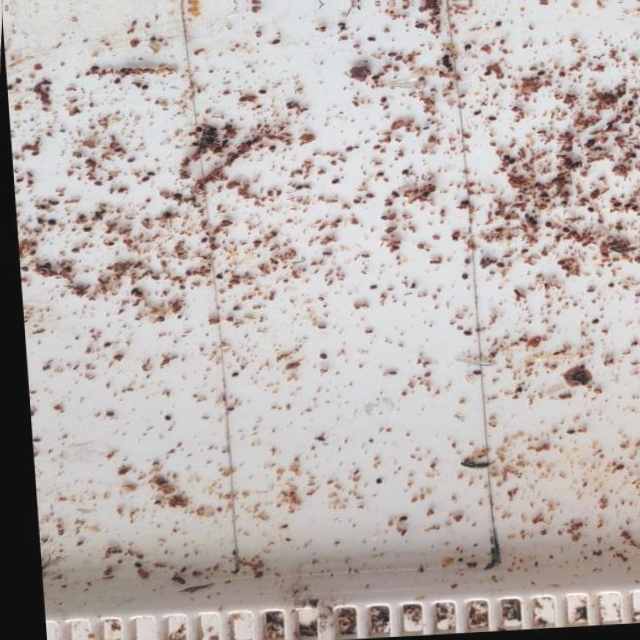varroa: (23, 248, 35, 259), (160, 211, 172, 222), (597, 256, 610, 266), (128, 292, 142, 301), (31, 218, 45, 227), (137, 177, 151, 186), (360, 195, 374, 204), (80, 226, 92, 236), (536, 197, 551, 205), (457, 333, 470, 342), (365, 287, 378, 296), (342, 149, 355, 158), (266, 146, 280, 154), (373, 174, 384, 184), (447, 239, 458, 249), (169, 578, 181, 587), (624, 345, 636, 354), (349, 202, 361, 211), (97, 343, 112, 350), (44, 219, 57, 227), (368, 148, 381, 156), (315, 355, 326, 364), (457, 277, 468, 286), (114, 188, 125, 197), (170, 193, 181, 202), (381, 204, 392, 213), (457, 203, 468, 212), (517, 252, 528, 261), (462, 48, 473, 57), (220, 407, 232, 415), (68, 248, 80, 256), (221, 125, 233, 133), (143, 173, 156, 180), (12, 177, 25, 184), (369, 78, 382, 85), (460, 261, 469, 271), (494, 25, 504, 34), (226, 373, 237, 381), (587, 324, 598, 332), (211, 275, 222, 283), (100, 412, 112, 419), (551, 264, 563, 271), (493, 267, 505, 274), (62, 266, 71, 275), (392, 519, 402, 527), (160, 416, 170, 424), (128, 289, 138, 297), (293, 187, 303, 195), (491, 231, 501, 239), (42, 81, 55, 87), (557, 270, 568, 277), (329, 182, 340, 189), (611, 231, 622, 238), (92, 182, 103, 189), (416, 81, 427, 88), (535, 75, 546, 82), (609, 208, 621, 214), (197, 238, 206, 246), (38, 204, 47, 212), (48, 201, 60, 207), (28, 151, 40, 157), (557, 76, 565, 85), (127, 563, 137, 570), (582, 212, 592, 219), (139, 86, 149, 93), (190, 142, 200, 149), (387, 55, 397, 62), (113, 79, 123, 86), (562, 434, 572, 441), (592, 151, 603, 157), (257, 92, 268, 98), (89, 67, 100, 73), (468, 375, 479, 381), (627, 106, 635, 114), (370, 482, 379, 489), (28, 437, 37, 444), (558, 205, 567, 212), (627, 158, 636, 165), (506, 163, 515, 170), (419, 375, 428, 382), (583, 144, 595, 149), (251, 242, 261, 248), (367, 40, 377, 46), (486, 121, 496, 127), (311, 440, 321, 446), (18, 266, 26, 273), (399, 173, 407, 180), (543, 227, 551, 234), (621, 209, 630, 215), (195, 128, 202, 135), (380, 100, 387, 107), (559, 233, 567, 239), (501, 159, 509, 165), (244, 142, 252, 148), (493, 215, 500, 221)
